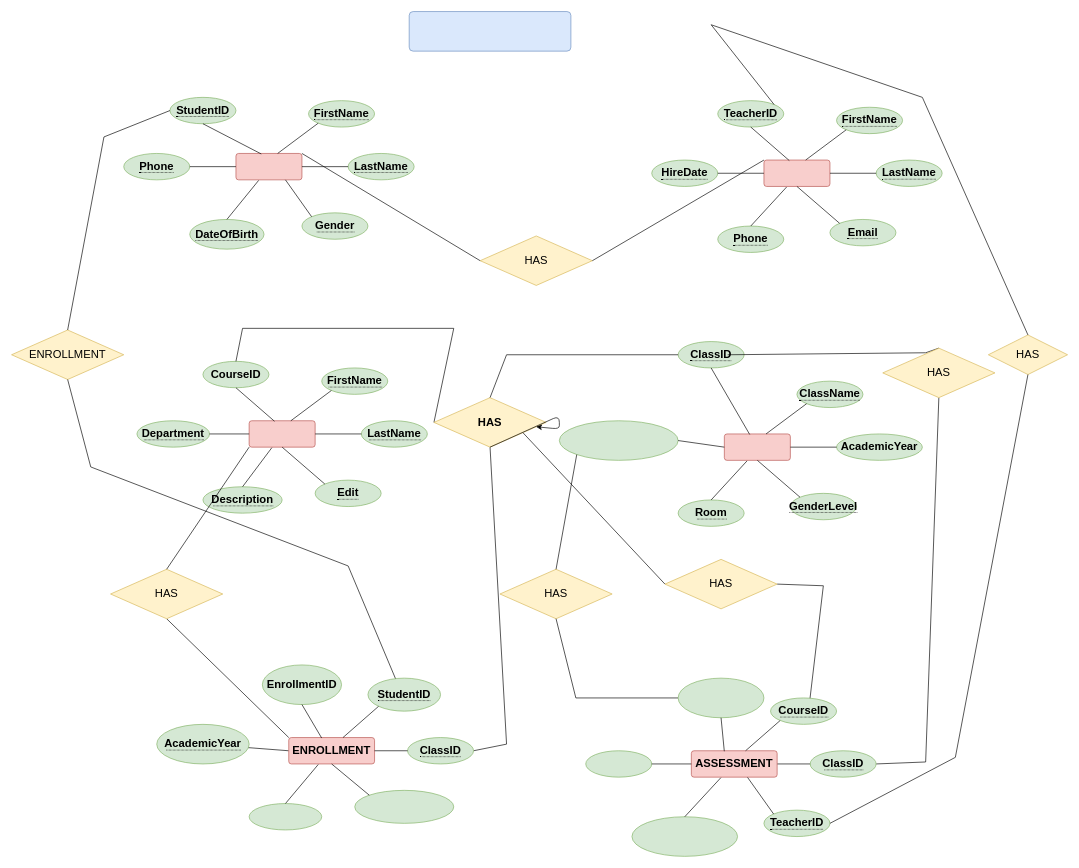
The diagram is 1079 pixels wide and 868 high, and some of its shapes have lost their labels. The shapes that lost their labels are listed below. From the top down, each one's centre as x and y in pixels, then its label:
(x=490, y=31): Group SW4 Name: Koy Sokkea
(x=268, y=166): STUDENT
(x=796, y=172): TEACHER
(x=281, y=433): COURSE
(x=618, y=440): HomeroomTeacherID
(x=757, y=446): CLASS
(x=720, y=697): AssessmentID
(x=618, y=763): MaxScore
(x=285, y=816): Status
(x=404, y=806): EnrollmentDate
(x=684, y=836): AssessmentType
